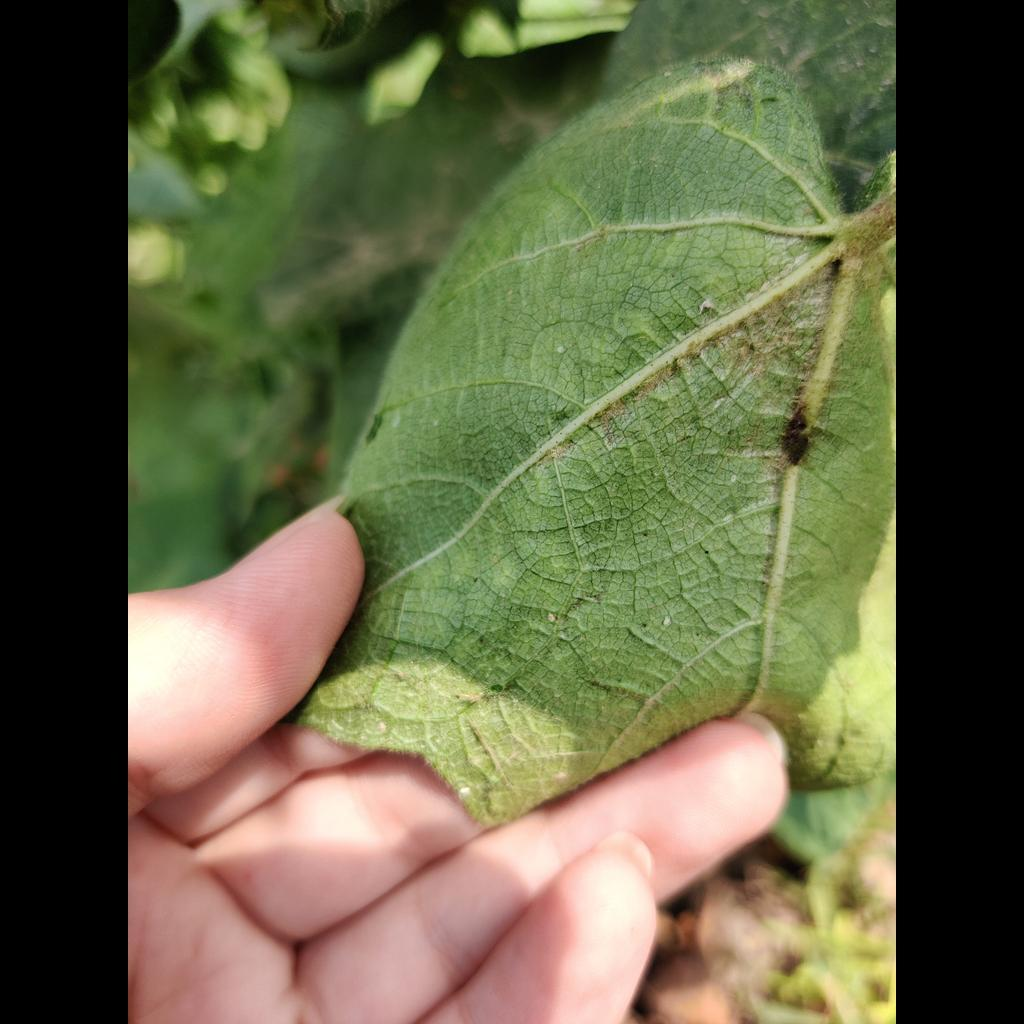nymph: (459, 787, 471, 795), (663, 616, 671, 627), (547, 612, 555, 623), (557, 346, 566, 354), (731, 474, 736, 483), (663, 71, 672, 76)
